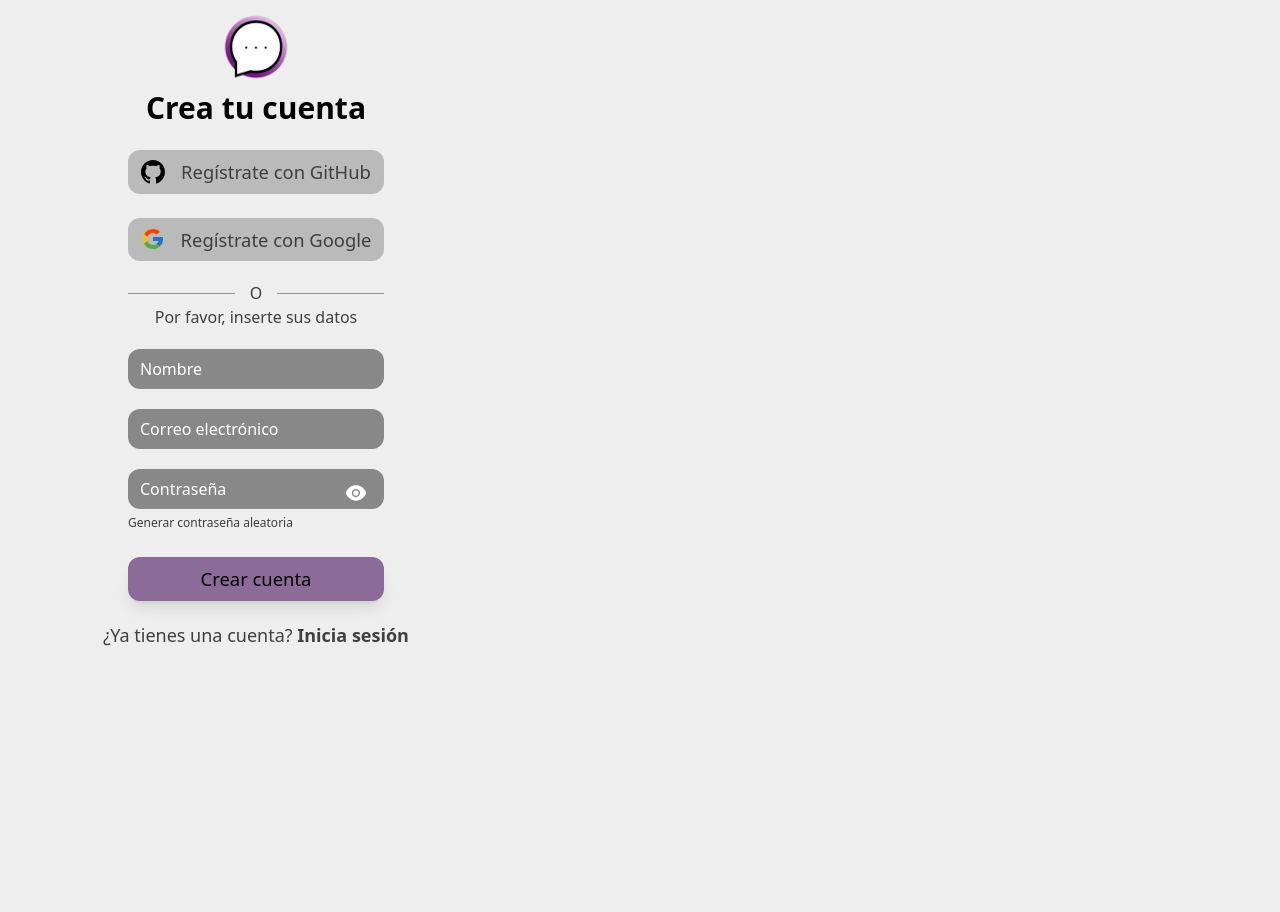
Test: Register › check that password error appear in the document if value of input have a length less than 6 characters
This screenshot has width=1280, height=912.
Type "short" into the password field with placeholder "Contraseña".
click(256, 489); type("short")  # box [128,469,384,509]
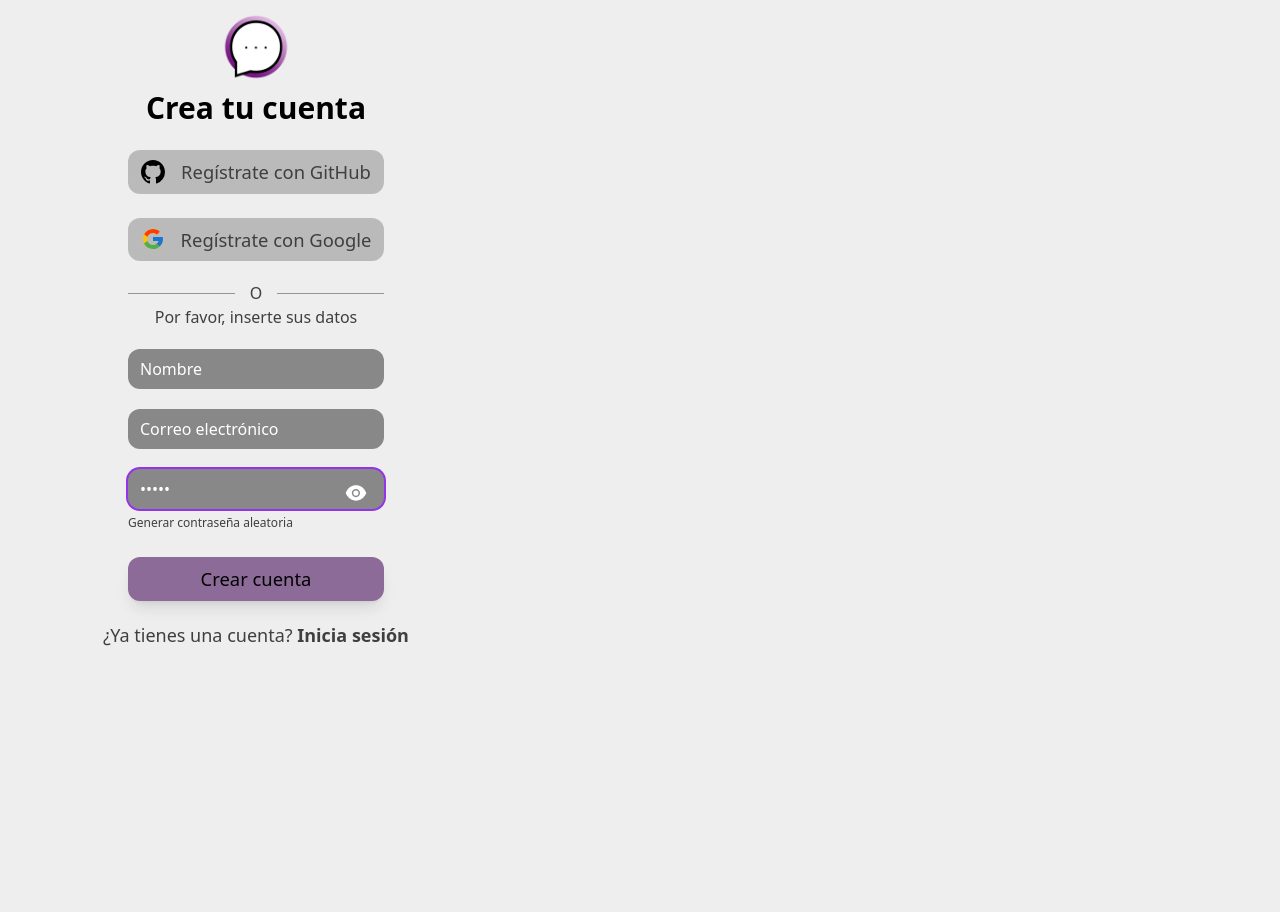
Hacemos clic fuera del input
Click the element that starts with "Crea tu cuenta".
click(640, 330)  # box [0,12,1279,649]
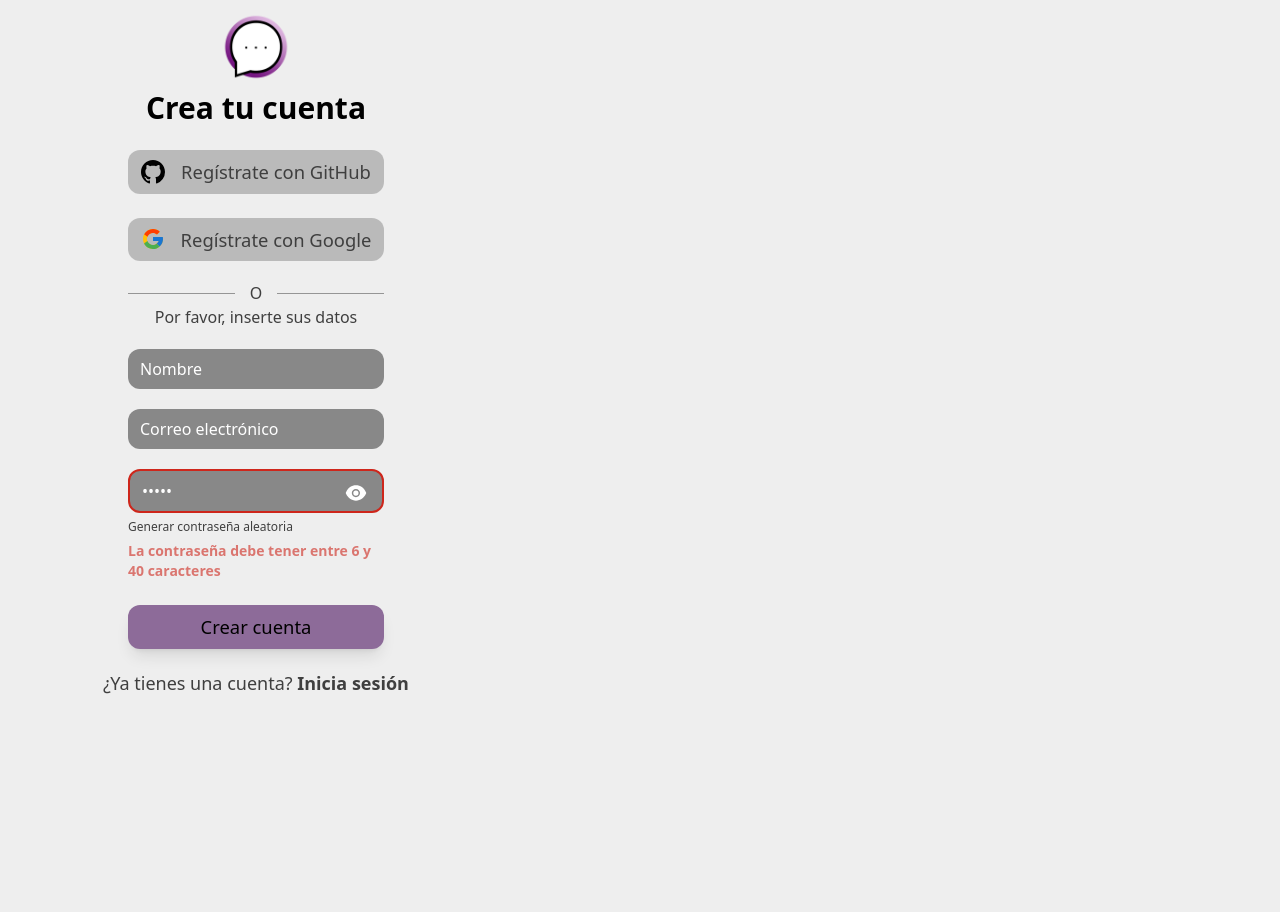
Expected: the text "La contraseña debe tener entre 6 y 40 caracteres" is shown, [128,541,384,581]
